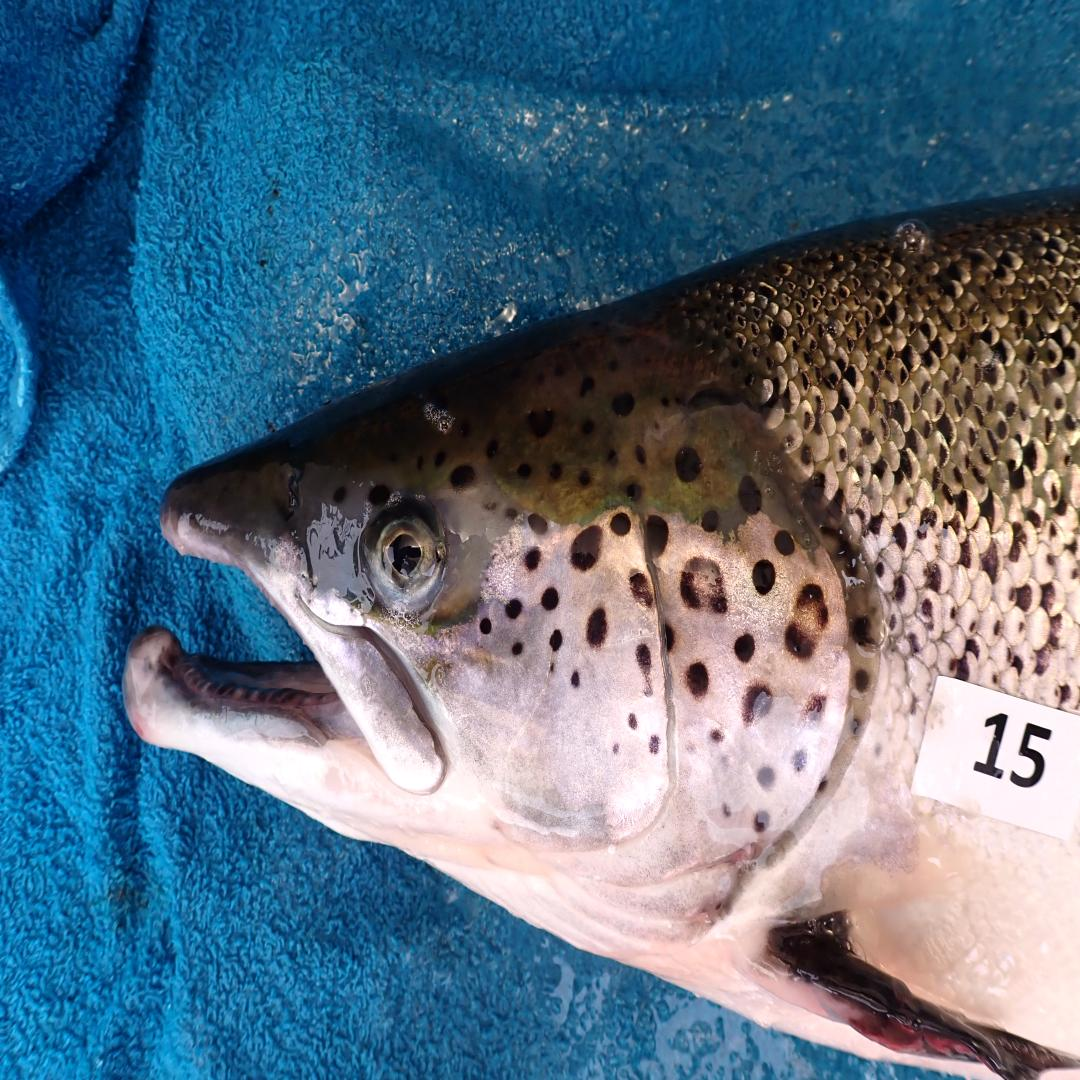roi: (435, 500, 854, 965)
